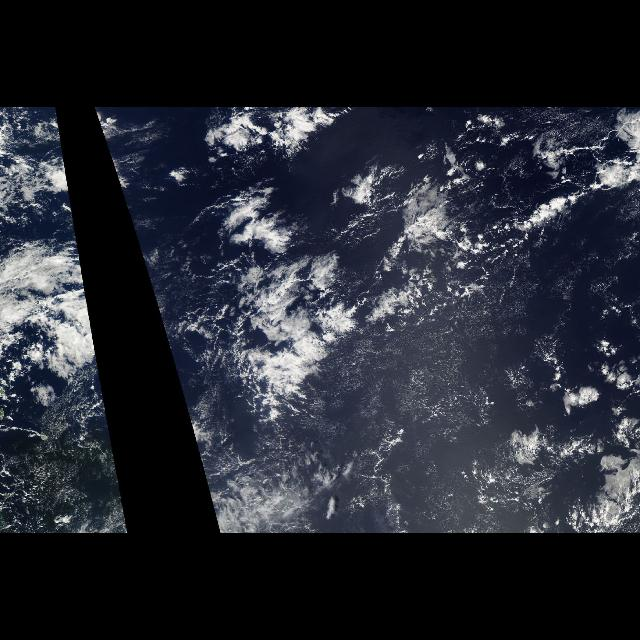Sugar: (326, 328, 518, 457)
